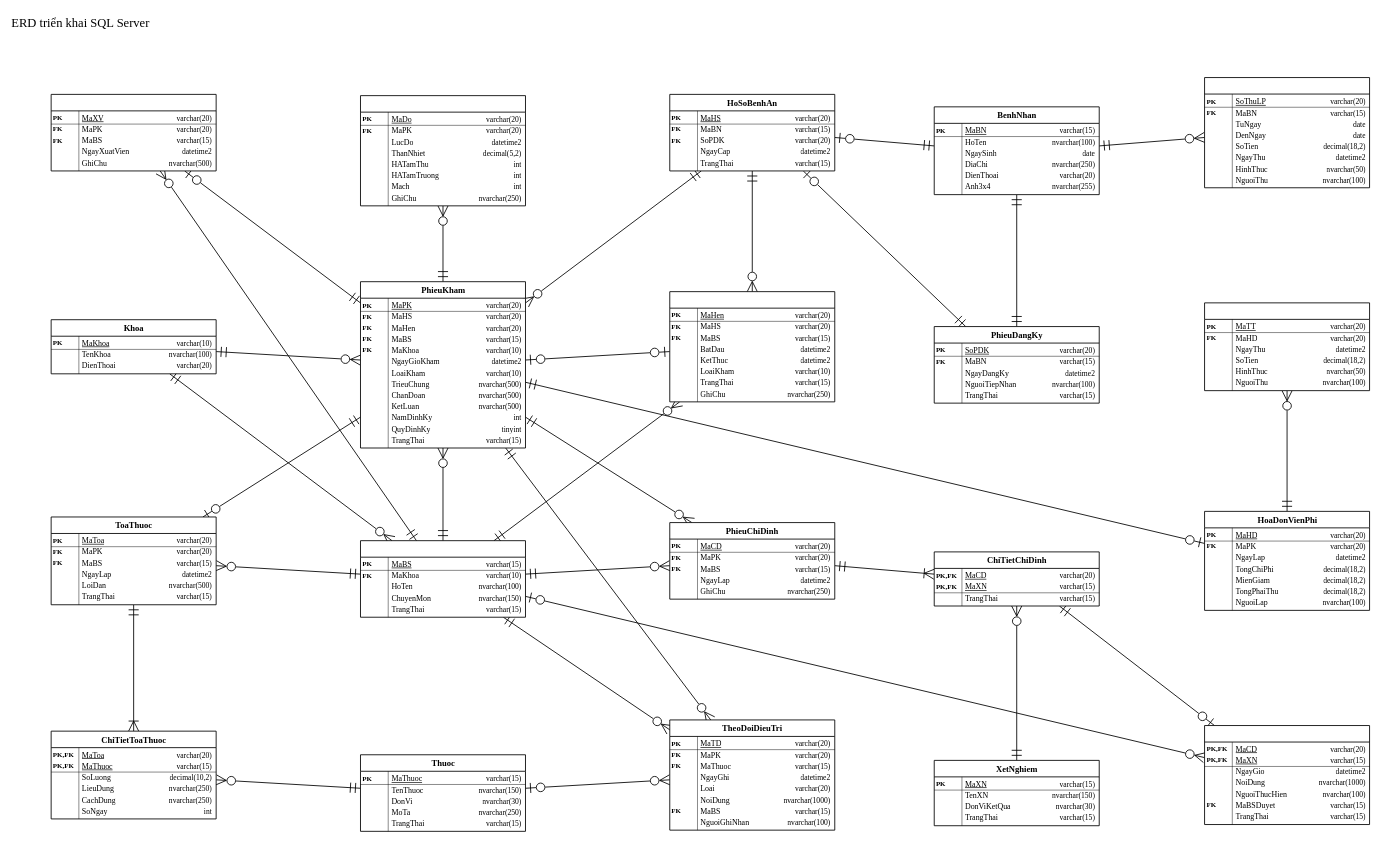
Some shapes in this 1381 by 843 pixel diagram are drawn without their labels. Here are the shapes that lost their labels. From the top down, the box of each, then its label:
(50, 94, 216, 171): PhieuXuatVien
(360, 95, 526, 206): ChiSoSinhHieu
(1204, 77, 1370, 188): LePhiNam
(669, 291, 835, 402): LichHen
(1204, 302, 1370, 391): ThanhToanVienPhi
(360, 540, 526, 617): BacSi
(1204, 725, 1370, 825): KetQuaXetNghiem
